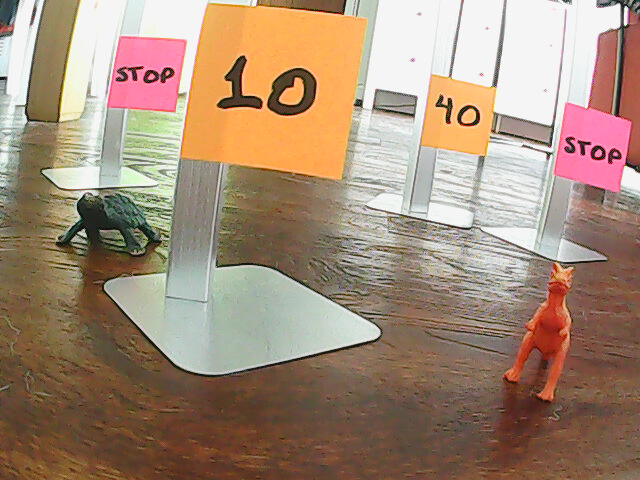10: (203, 11, 345, 154)
40: (429, 85, 485, 144)
dinosaur: (496, 259, 580, 414)
stop: (111, 43, 178, 106), (561, 115, 623, 183)
turtle: (48, 188, 166, 266)
